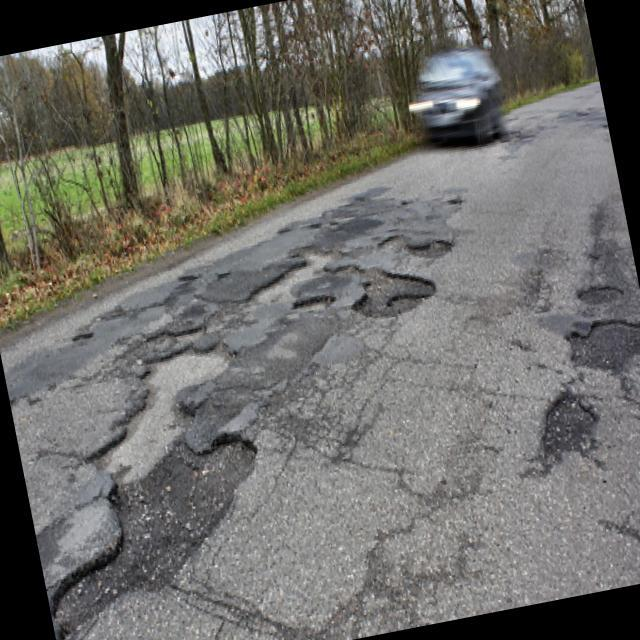Pothole: (28, 432, 288, 640), (60, 328, 260, 477), (354, 244, 444, 338), (237, 231, 340, 307), (534, 375, 608, 461), (559, 306, 640, 383), (574, 271, 629, 317), (408, 226, 459, 272), (289, 285, 337, 322), (378, 232, 408, 256)
